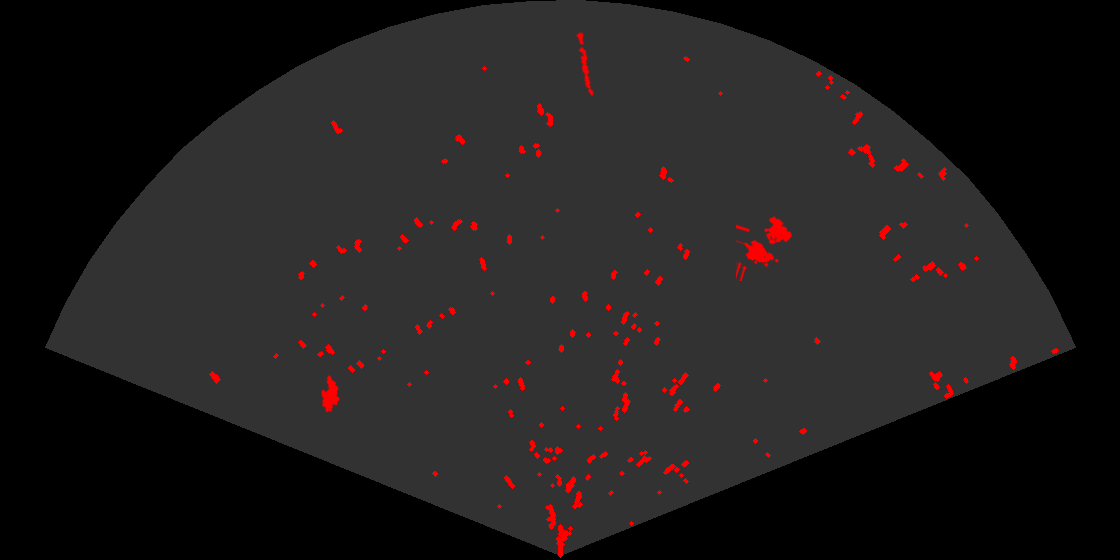AUV: (320, 373, 342, 414)
cage: (736, 214, 794, 281)
chain: (574, 31, 595, 98)
